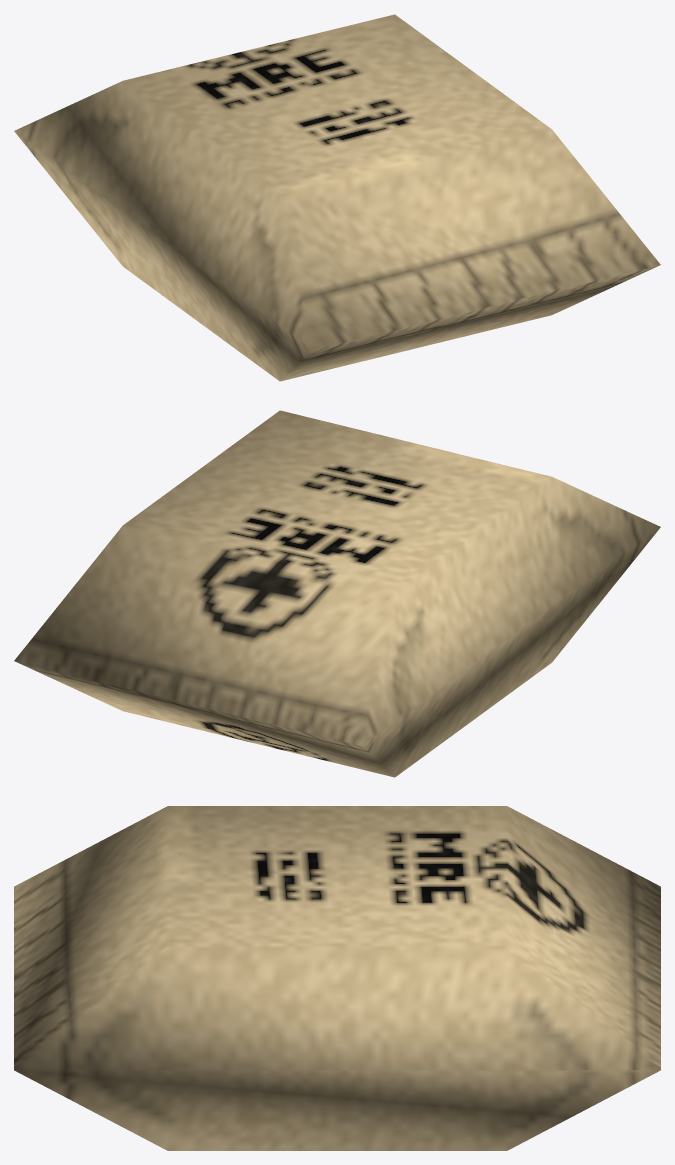
The model's file is mre.fbx.
The picture shows the model from 3 angles, top to bottom: view 1: azimuth 30°, elevation 25°; view 2: azimuth 150°, elevation 25°; view 3: azimuth 270°, elevation 25°; orthographic projection. The views are drawn at different scales.
Visible parts, largest first — view 1: Cube; view 2: Cube; view 3: Cube.
Part boxes in pixels (left/top/right/bottom): Cube: left=14, top=14, right=660, bottom=381; Cube: left=14, top=410, right=660, bottom=777; Cube: left=14, top=806, right=660, bottom=1150.
Size of the model in its own units: 102 by 52.22 by 152.
1 material, 1 textured.
